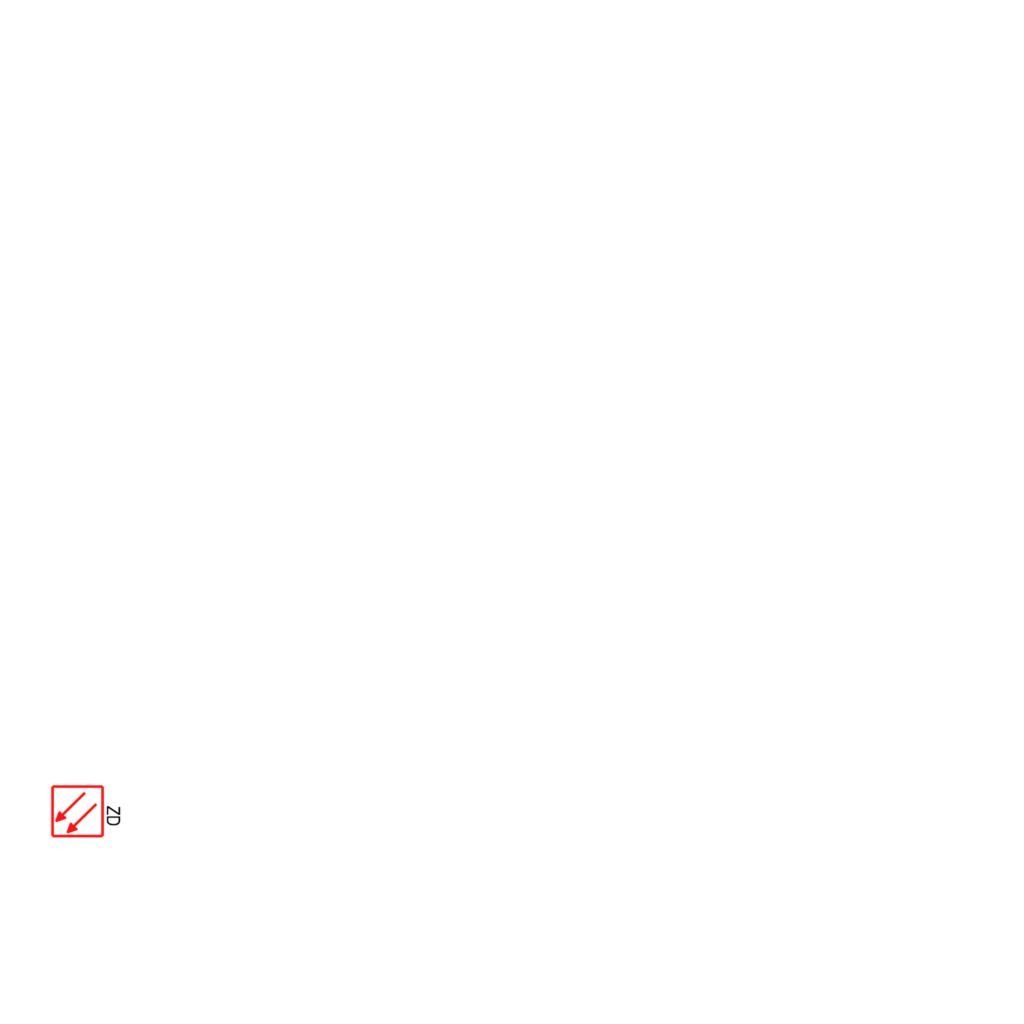ZD_Melder_in_Zwischendecke_mit_Revisionsoeffnung_mind_40_x_40_cm: (50, 782, 124, 839)
